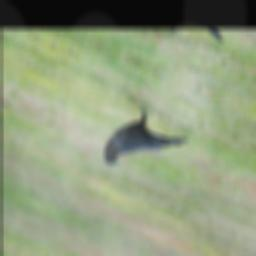Crow: (99, 99, 194, 193)
